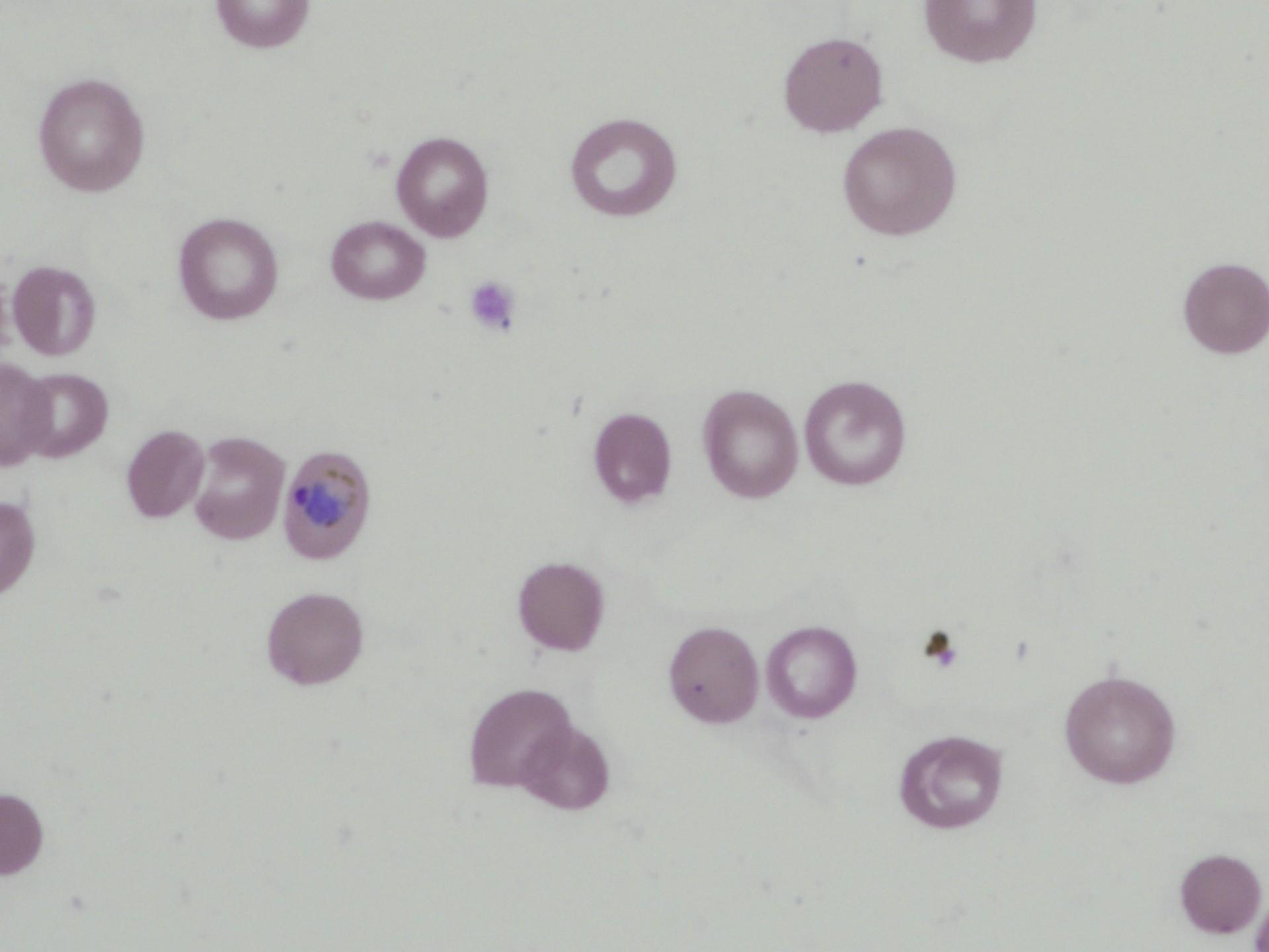Infected: (284, 452, 369, 557)
Uninfected: (471, 693, 603, 811), (1063, 677, 1175, 784), (38, 79, 144, 191), (843, 129, 952, 233), (570, 119, 677, 216), (703, 391, 798, 495), (178, 218, 278, 316), (809, 380, 905, 482), (899, 736, 1004, 828), (395, 138, 490, 237), (196, 440, 284, 540), (784, 40, 881, 130), (669, 629, 759, 723), (267, 596, 360, 685), (765, 629, 855, 718), (10, 264, 96, 355), (1182, 263, 1269, 351), (517, 564, 603, 651), (330, 220, 424, 299), (594, 414, 671, 501), (128, 430, 205, 517), (29, 375, 105, 457), (1181, 856, 1260, 932)
